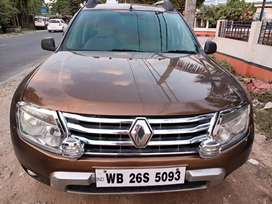WB26S5093: (95, 166, 184, 187)
